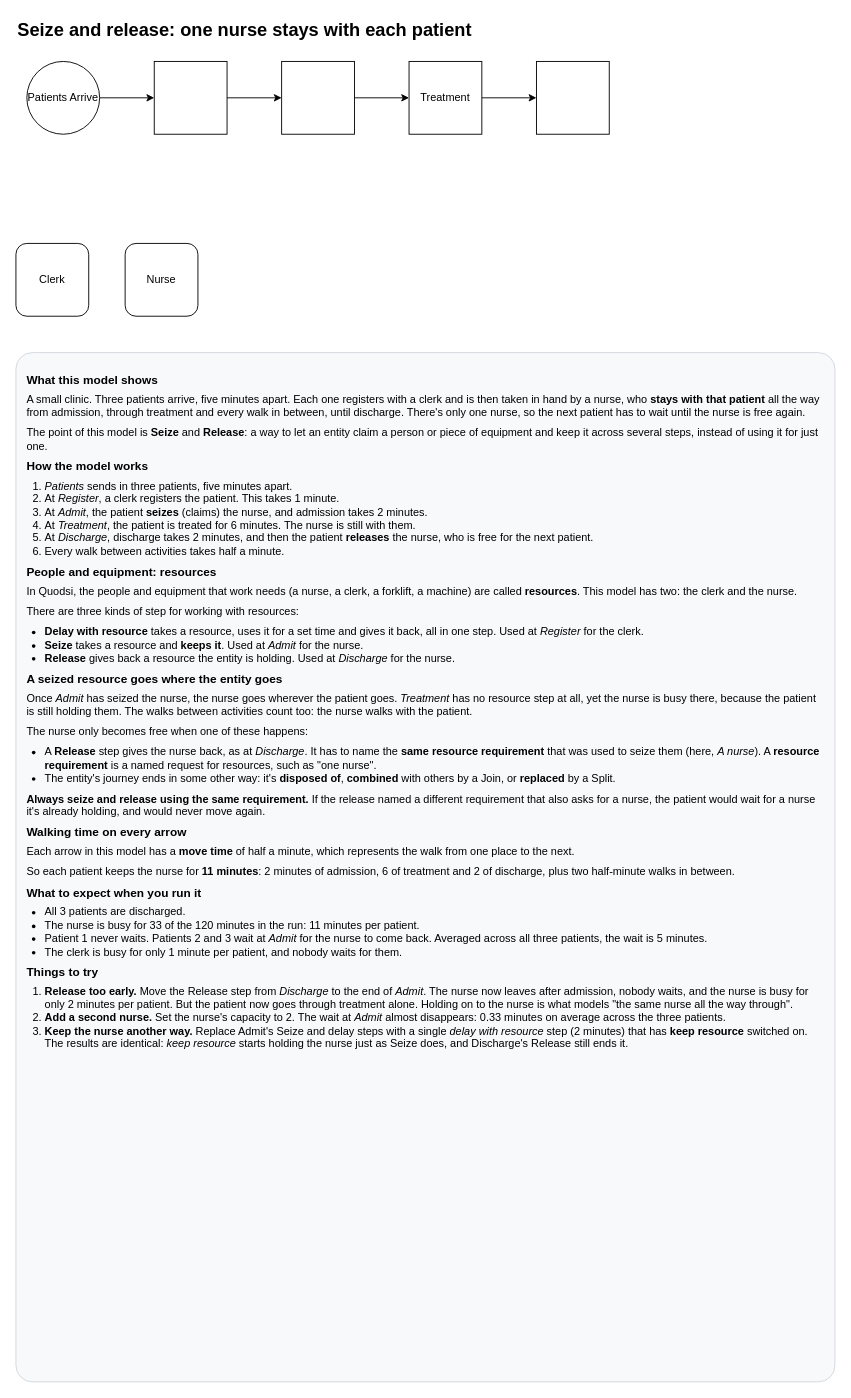
This 851x1398 diagram has some shape labels left out. Each missing label, with the centre of its shape:
Admit: (x=317, y=97)
Discharge: (x=572, y=97)
Register: (x=190, y=97)
